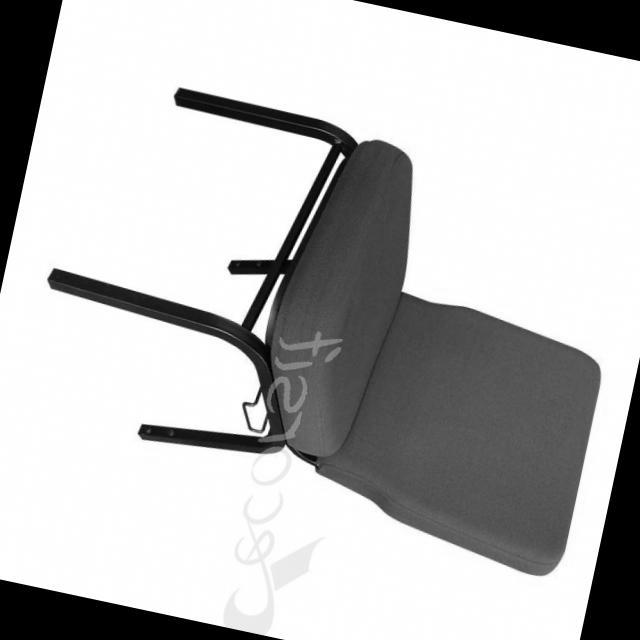chair: (5, 58, 640, 580)
